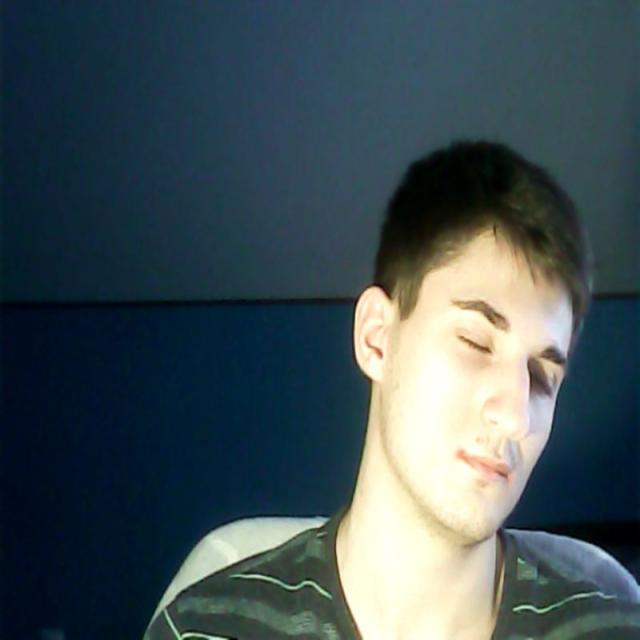Eyeclosed: (457, 327, 492, 362), (529, 370, 553, 400)
